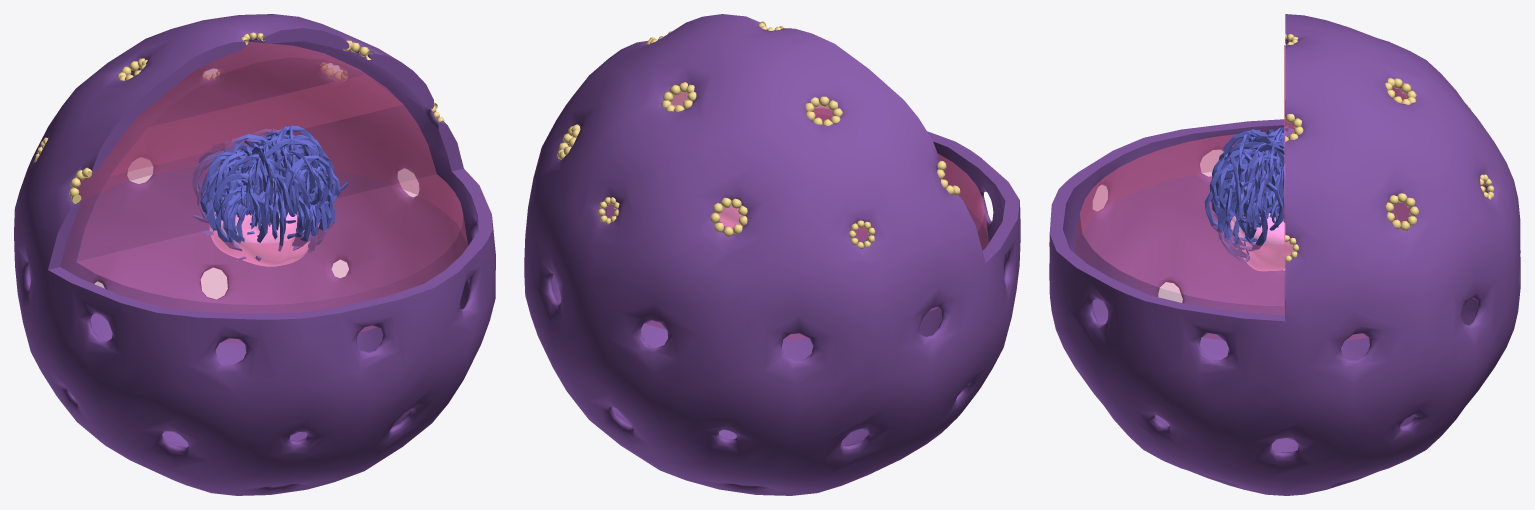
File: Nucleus.glb
The picture shows the model from 3 angles, left to right: view 1: azimuth 30°, elevation 25°; view 2: azimuth 150°, elevation 25°; view 3: azimuth 270°, elevation 25°; orthographic projection. The views are drawn at different scales.
Visible parts, largest first — view 1: Icosphere, Roundcube, Mesh, Roundcube.001, Icosphere.002; view 2: Icosphere, Icosphere.002, Roundcube; view 3: Icosphere, Roundcube, Mesh, Icosphere.002, Roundcube.001.
Part boxes in pixels (x1,y1,x2,y2): Icosphere: (14, 14, 495, 495); Roundcube: (60, 41, 467, 342); Mesh: (192, 124, 348, 261); Roundcube.001: (209, 204, 319, 266); Icosphere.002: (34, 32, 444, 203); Icosphere: (524, 14, 1020, 495); Icosphere.002: (557, 21, 960, 248); Roundcube: (606, 90, 988, 339); Icosphere: (1049, 14, 1520, 495); Roundcube: (1074, 45, 1486, 340); Mesh: (1204, 125, 1293, 262); Icosphere.002: (1285, 34, 1494, 261); Roundcube.001: (1230, 203, 1293, 271).
Bounding box in the file's own units: 2.2 × 2.18 × 2.15.
